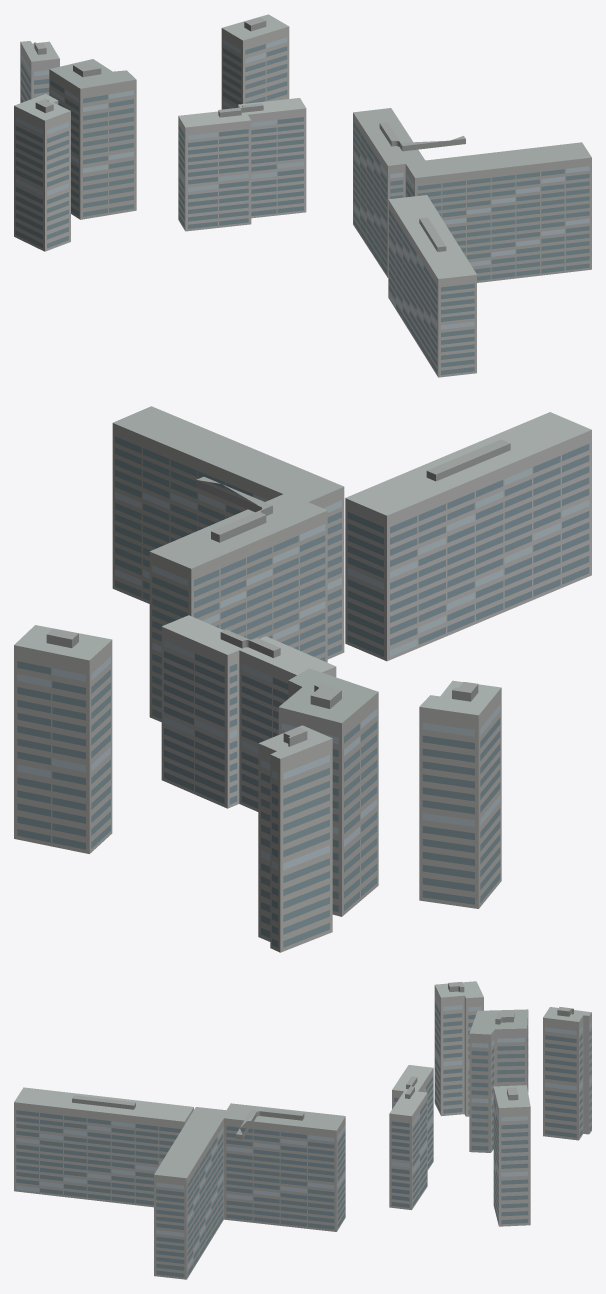
Rendered from apt-a13983608.glb.
The picture shows the model from 3 angles, top to bottom: view 1: azimuth 30°, elevation 25°; view 2: azimuth 150°, elevation 25°; view 3: azimuth 270°, elevation 25°; orthographic projection. The views are drawn at different scales.
Visible parts, largest first — view 1: apt-a13983608; view 2: apt-a13983608; view 3: apt-a13983608.
Boxes of the visible parts, box(x1,y1,x2,y2) form: apt-a13983608: box(14, 14, 591, 377); apt-a13983608: box(14, 406, 591, 952); apt-a13983608: box(14, 981, 591, 1279).
Bounding box in the file's own units: 149 × 47.81 × 202.
